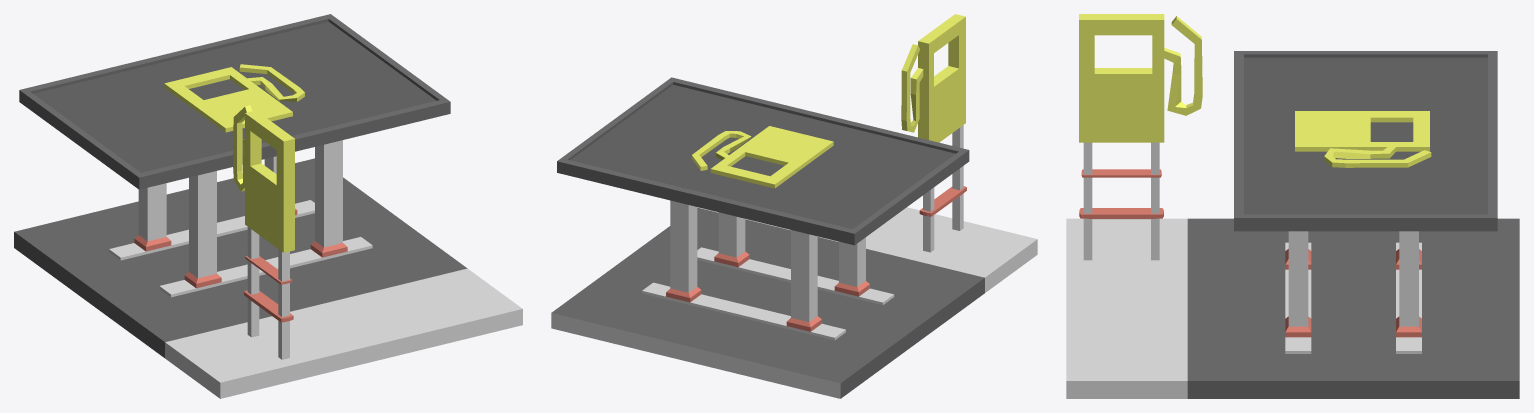
Rendered from FUEL.fbx.
3 views of the same model, side by side, from view 1: azimuth 30°, elevation 25°; view 2: azimuth 150°, elevation 25°; view 3: azimuth 270°, elevation 25° (orthographic). The views are drawn at different scales.
Visible parts, largest first — view 1: Cube.004; view 2: Cube.004; view 3: Cube.004.
Boxes of the visible parts, x1,y1,x2,y2 form: Cube.004: (14,14,522,398); Cube.004: (551,14,1037,398); Cube.004: (1066,14,1519,398).
Size of the model in its own units: 336 by 245 by 386.
